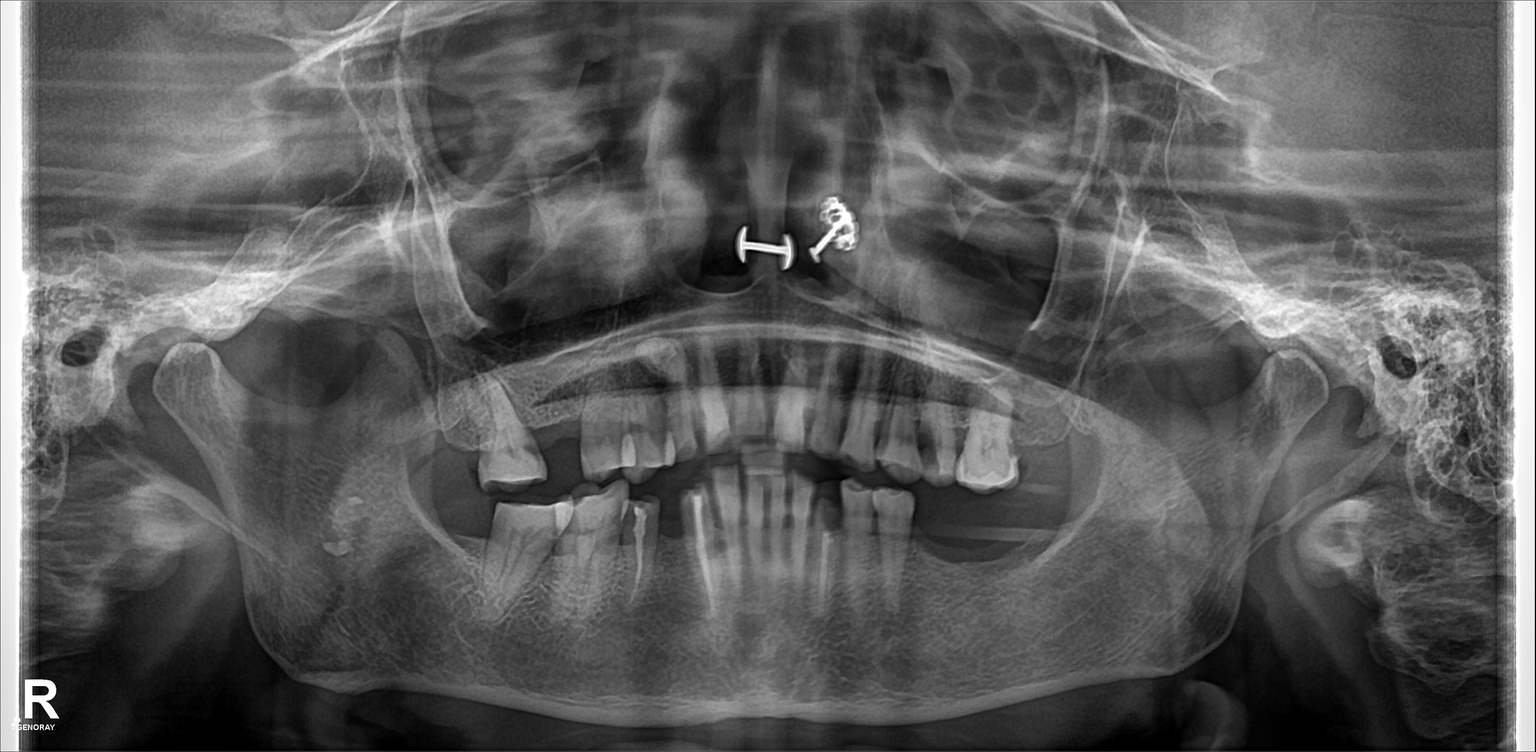Endodontically Treated Tooth: (685, 491, 726, 618), (812, 504, 836, 615), (629, 499, 650, 611)
Missing Tooth: (428, 408, 486, 492), (918, 501, 965, 596), (534, 389, 581, 481), (430, 499, 489, 563), (1022, 400, 1053, 480), (1041, 499, 1071, 576), (1002, 506, 1031, 575), (974, 503, 995, 594)
